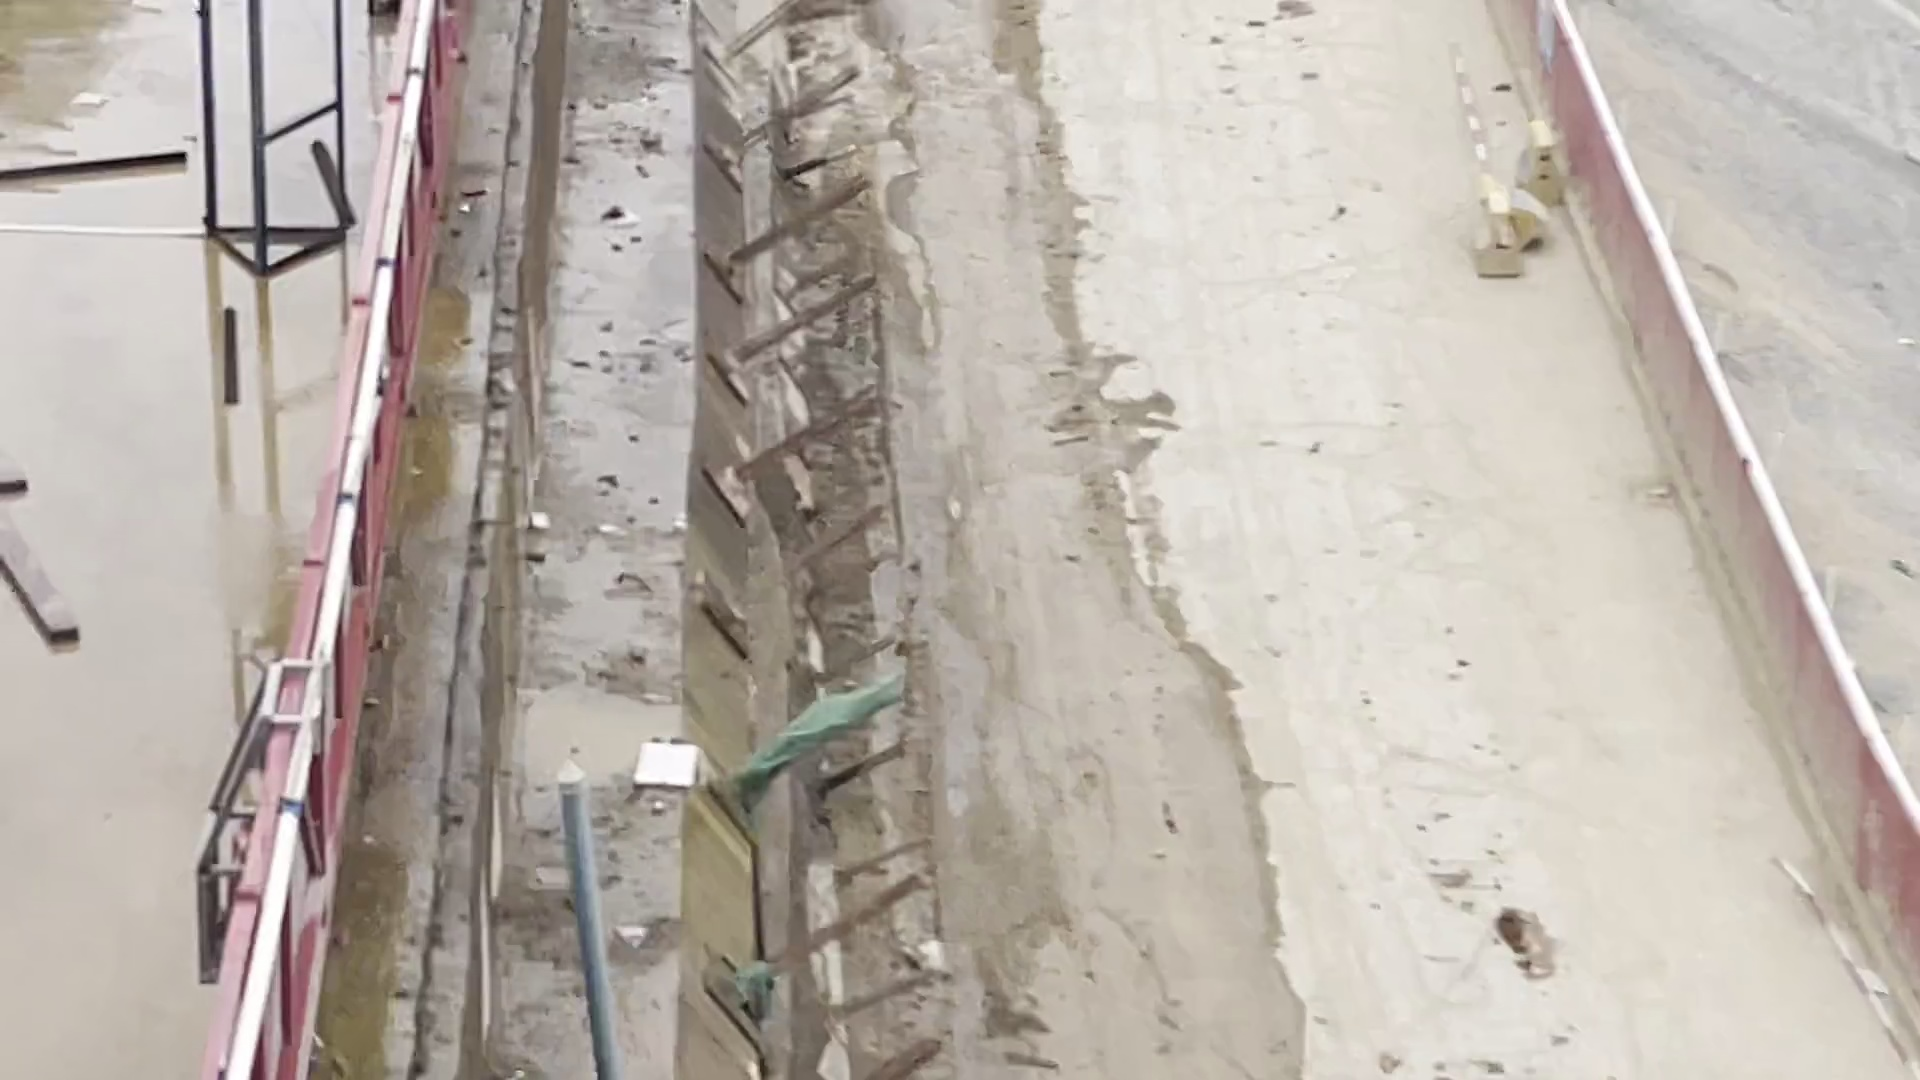fence: (1650, 322, 1920, 1034), (1495, 4, 1700, 527), (196, 455, 359, 1080), (322, 4, 456, 604)
